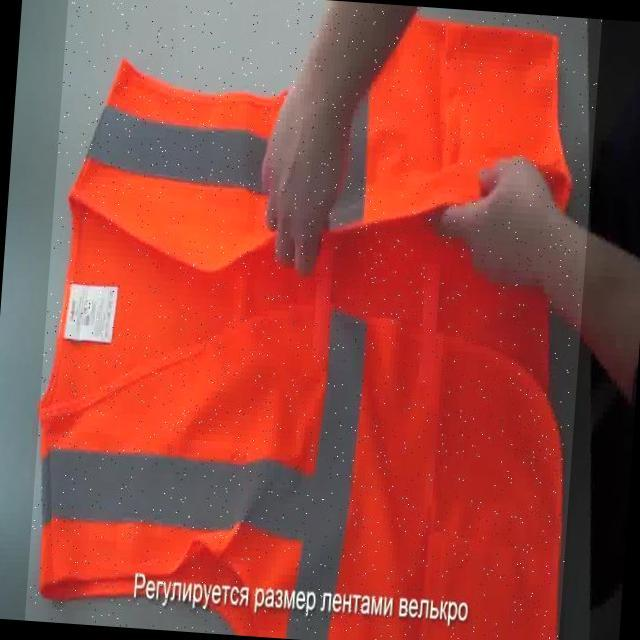Safety Vest: (24, 0, 601, 640)
